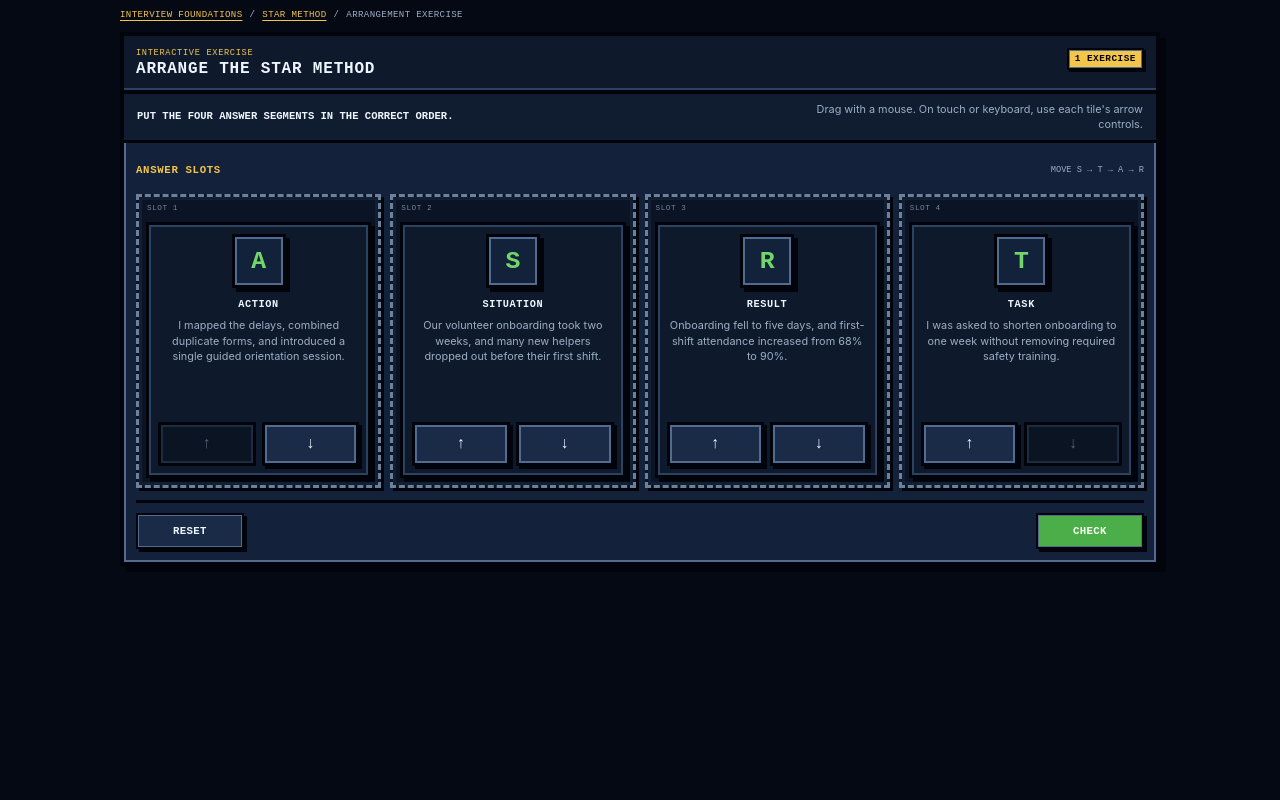
Test: StarArrangementExercise › explains an incorrect order, saves completion, and allows retry
What coordinates should you click on to do the following:
click the button named "check my order"
I would click on:
 (1090, 531)
Its box is [1036,513,1144,549].
(page scrolled)
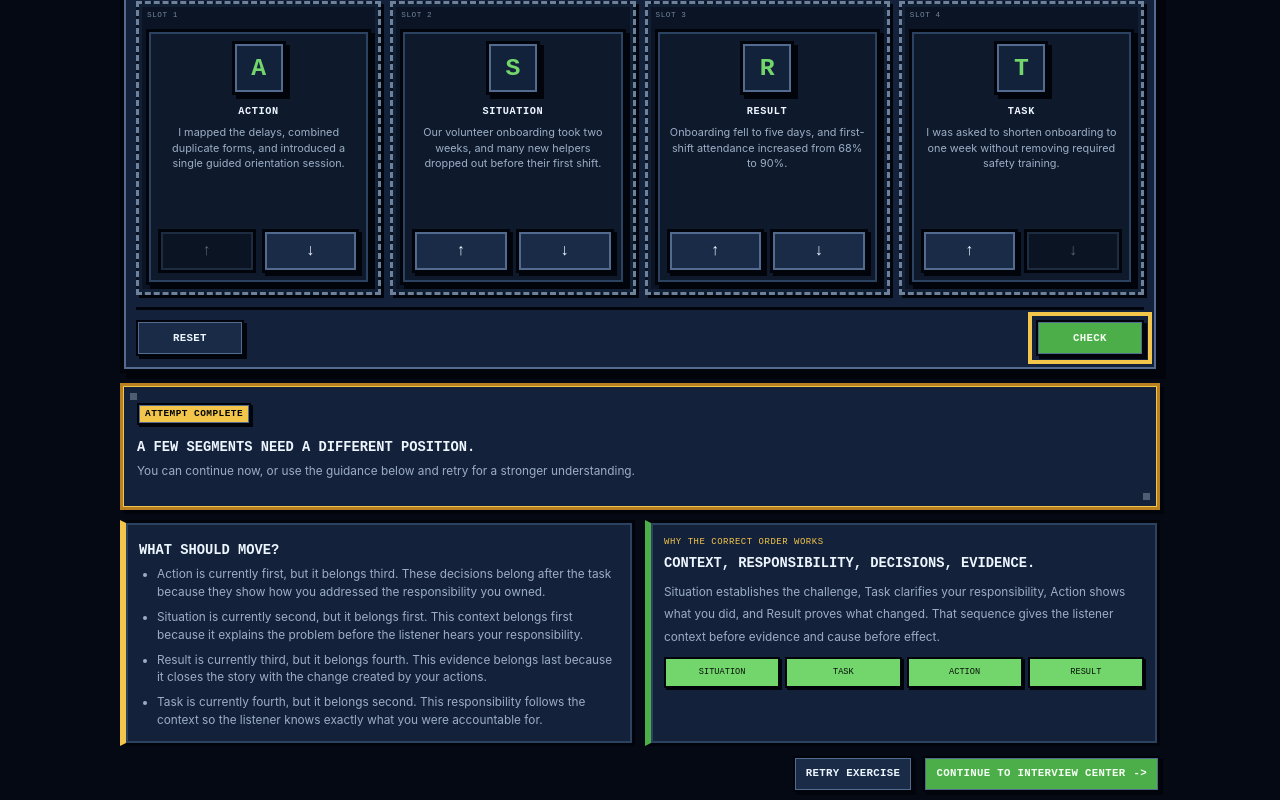
Check: the heading "A few segments need a different position." is shown, box [137,440,475,455]
Check: the heading "What should move?" is shown, box [139,543,279,558]
Check: the text "Why the correct order works" is shown, box [664,537,824,547]
What coordinates should you click on to do the following:
click the button "Retry exercise"
I would click on:
 (853, 774)
Its box is [793,756,913,792].
(page scrolled)
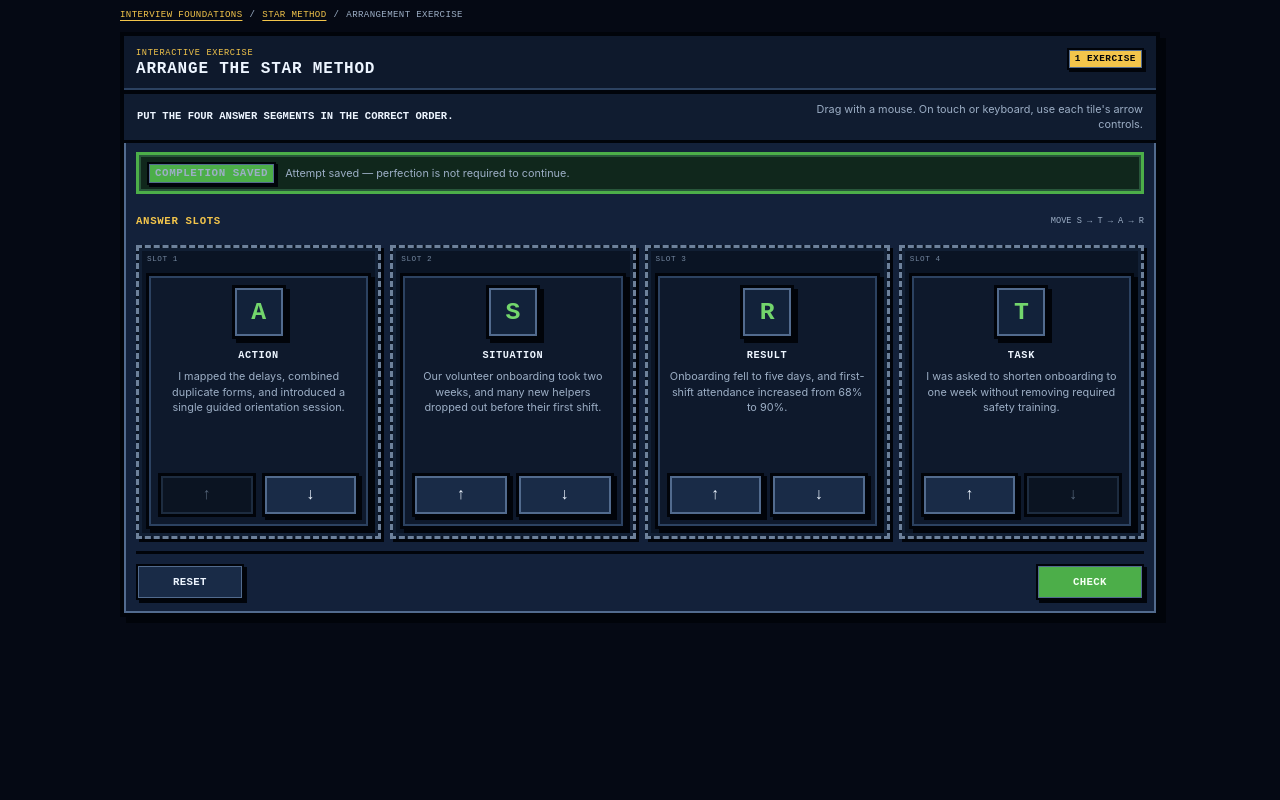
Check: the text "mapped the delays" is shown, box [172,370,345,414]
Check: the heading "What should move" is gone
